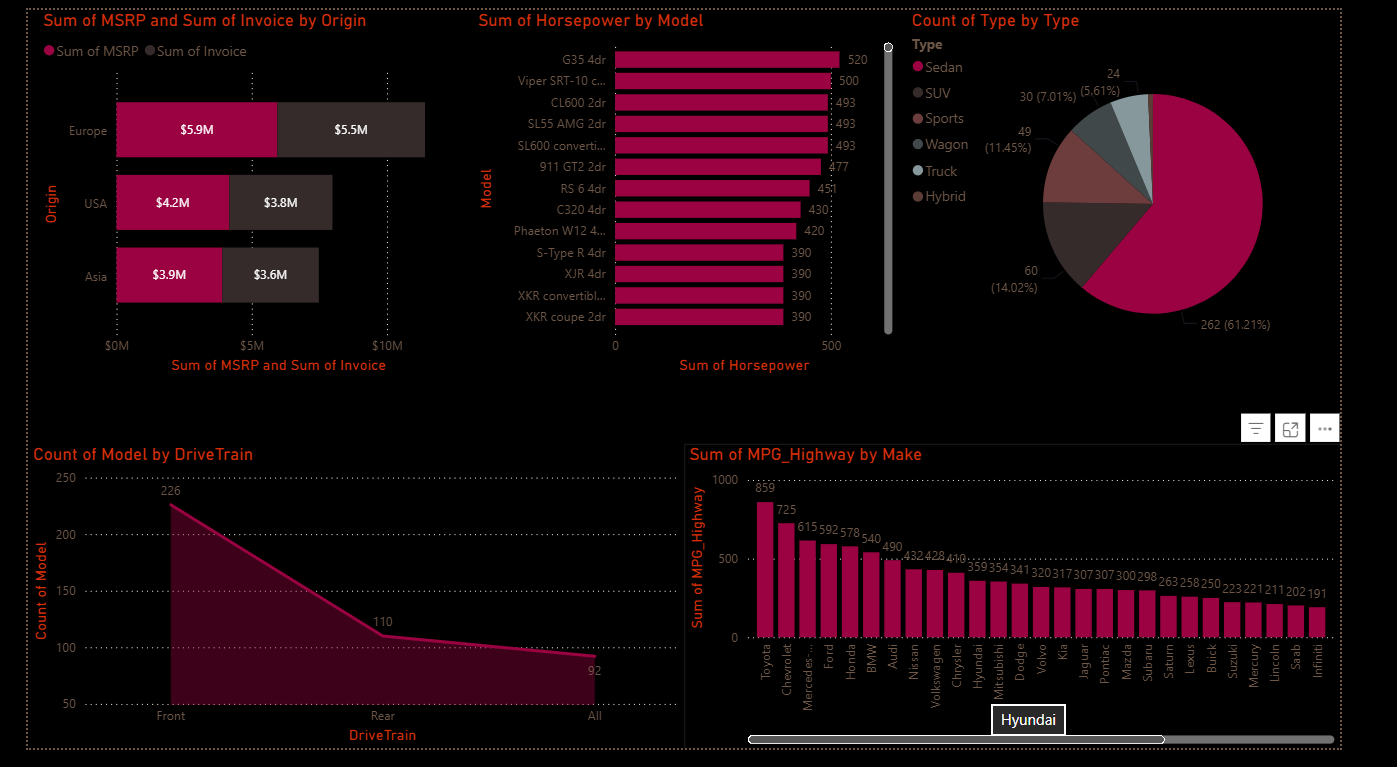

Layout of this report page (visuals, bound fields, positions):
{"tool":"powerbi","page":{"name":"Page 2","canvas":[1280,720],"ordinal":1},"visuals":[{"type":"barChart","fields":{"Category":["CARS.Origin"],"Y":["Sum(CARS.MSRP)","Sum(CARS.Invoice)"]},"box":[9.6,0,414.4,359.5],"z":0},{"type":"lineChart","fields":{"Category":["CARS.DriveTrain"],"Y":["CountNonNull(CARS.Model)"]},"box":[0,422.6,640.8,297.8],"z":1000},{"type":"clusteredBarChart","fields":{"Category":["CARS.Model"],"Y":["Sum(CARS.Horsepower)"]},"box":[433.6,0,414.4,359.5],"z":2000},{"type":"clusteredColumnChart","fields":{"Category":["CARS.Make"],"Y":["Sum(CARS.MPG_Highway)"]},"box":[640.8,422.6,639.5,297.8],"z":3000},{"type":"pieChart","fields":{"Category":["CARS.Type"],"Y":["CountNonNull(CARS.Type)"]},"box":[857.6,0,414.4,359.5],"z":4000}]}

Visuals, with their boxes in screenshot pixels (x1, y1, x2, y2), scaled from the page's 1280x720 canvas onto the 1397x767 screenshot:
barChart - CARS.Origin x Sum(CARS.MSRP): 10:0:463:383
lineChart - CARS.DriveTrain x CountNonNull(CARS.Model): 0:450:699:766
clusteredBarChart - CARS.Model x Sum(CARS.Horsepower): 473:0:926:383
clusteredColumnChart - CARS.Make x Sum(CARS.MPG_Highway): 699:450:1396:766
pieChart - CARS.Type x CountNonNull(CARS.Type): 936:0:1388:383
